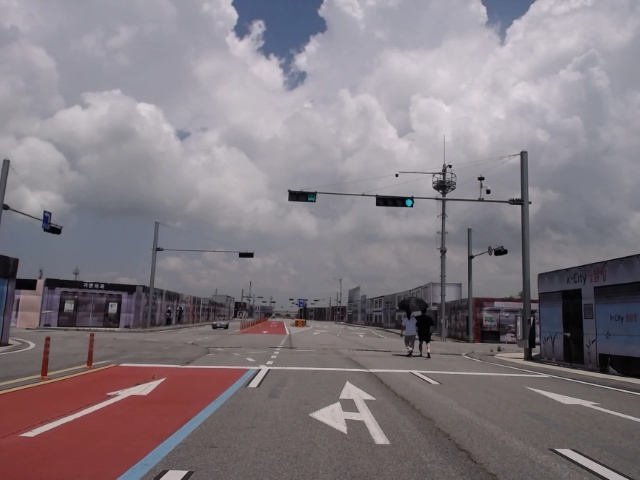straight_green_4: (376, 196, 415, 209)
